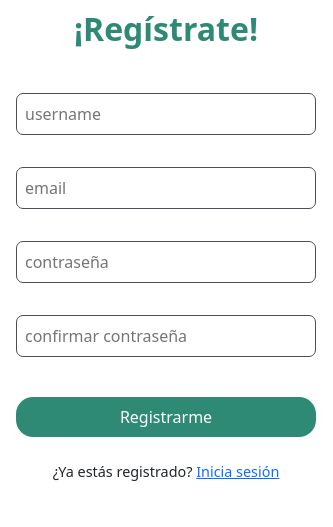
NewUser Component Test › shows error when fields are missing test
Click the button "Registrarme". click: (166, 417)
box: 16,397 -> 316,437
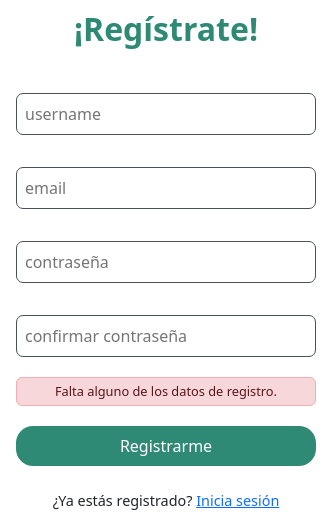
Now the text "Falta alguno de los datos de registro." is shown, box 16,377 -> 316,406
